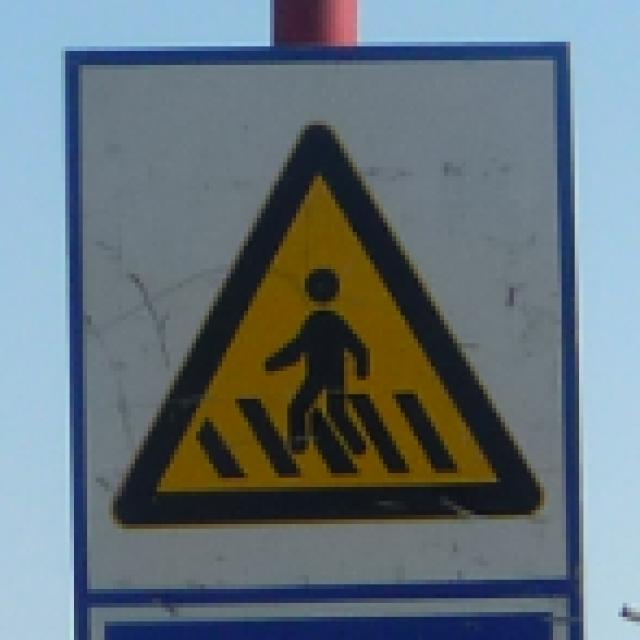Crossing: (105, 106, 548, 534)
